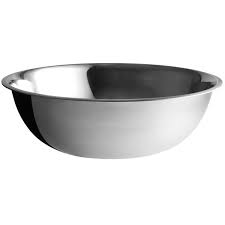bowl: (1, 58, 224, 163)
